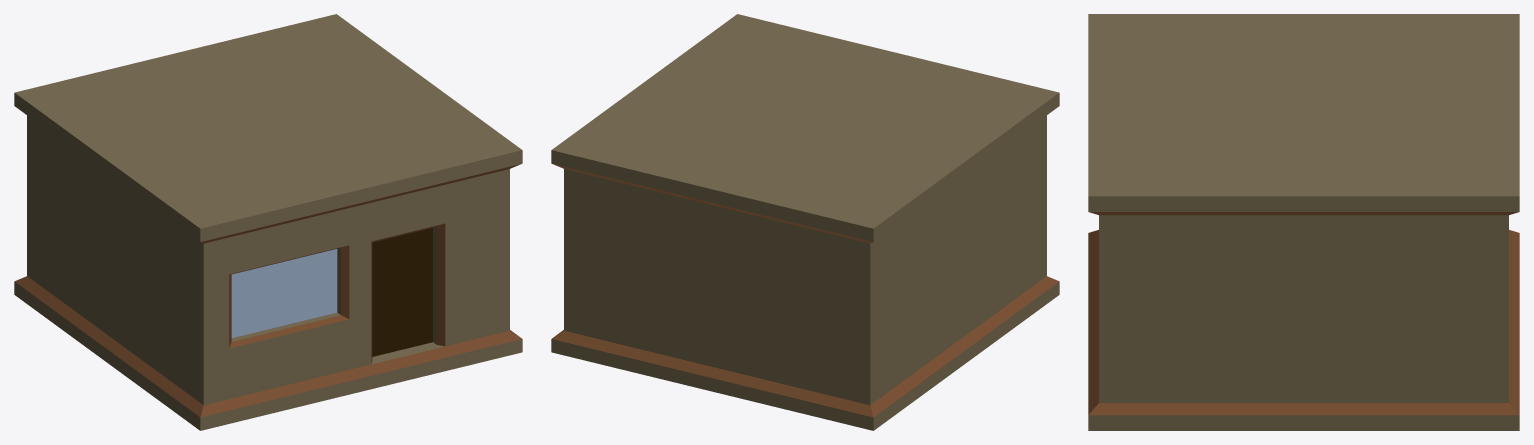
Rendered from 535 House 1.fbx.
3 renders of one model, left to right at view 1: azimuth 30°, elevation 25°; view 2: azimuth 150°, elevation 25°; view 3: azimuth 270°, elevation 25°, orthographic. The views are drawn at different scales.
Visible parts, largest first — view 1: Mesh; view 2: Mesh; view 3: Mesh.
Part boxes in pixels (<box>): Mesh: <box>14,14,522,430</box>; Mesh: <box>551,14,1059,430</box>; Mesh: <box>1088,14,1519,430</box>.
Size of what is drawn, in the model's own units: 5 by 3 by 5.
